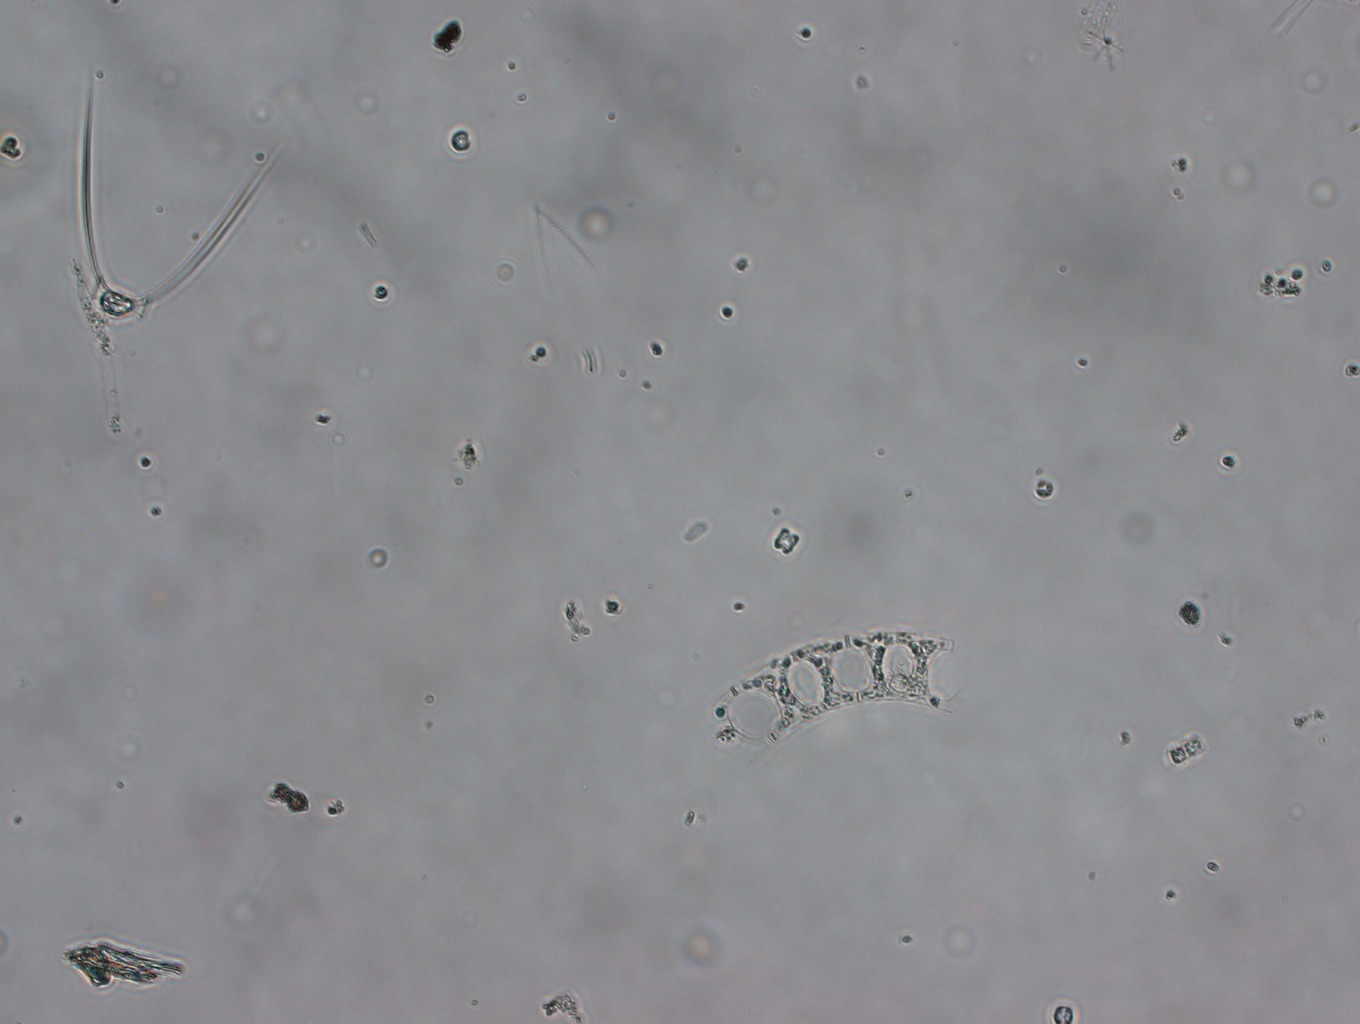chaetoceros: (67, 52, 291, 332)
eucampia: (701, 618, 961, 765)
